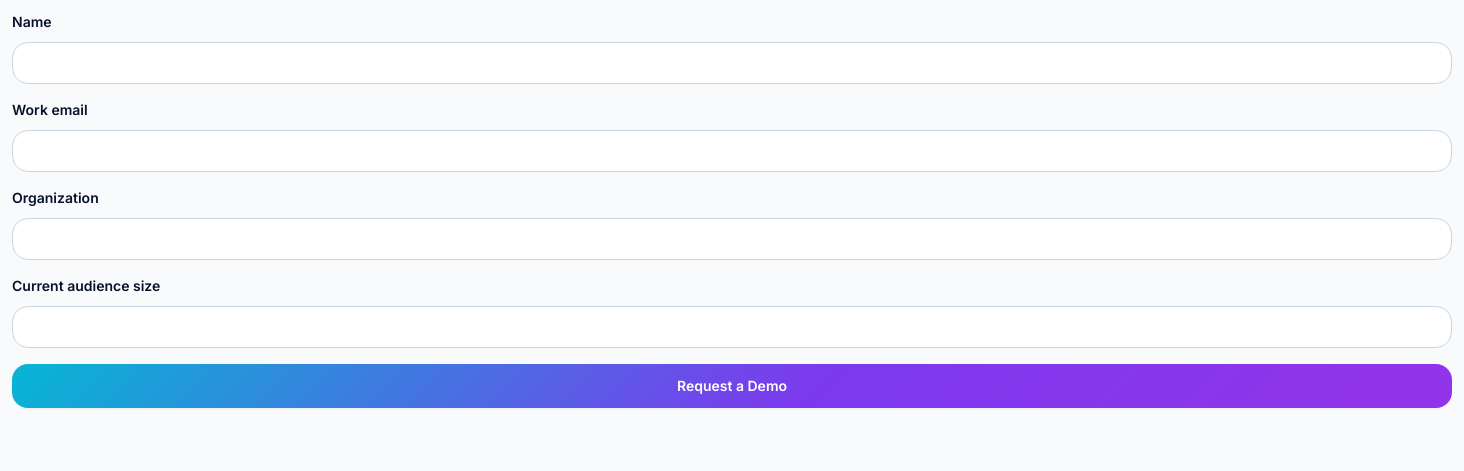
professional form › validates before confirming a request
Click the button "Request a Demo": (732, 386) [12,364,1452,408]
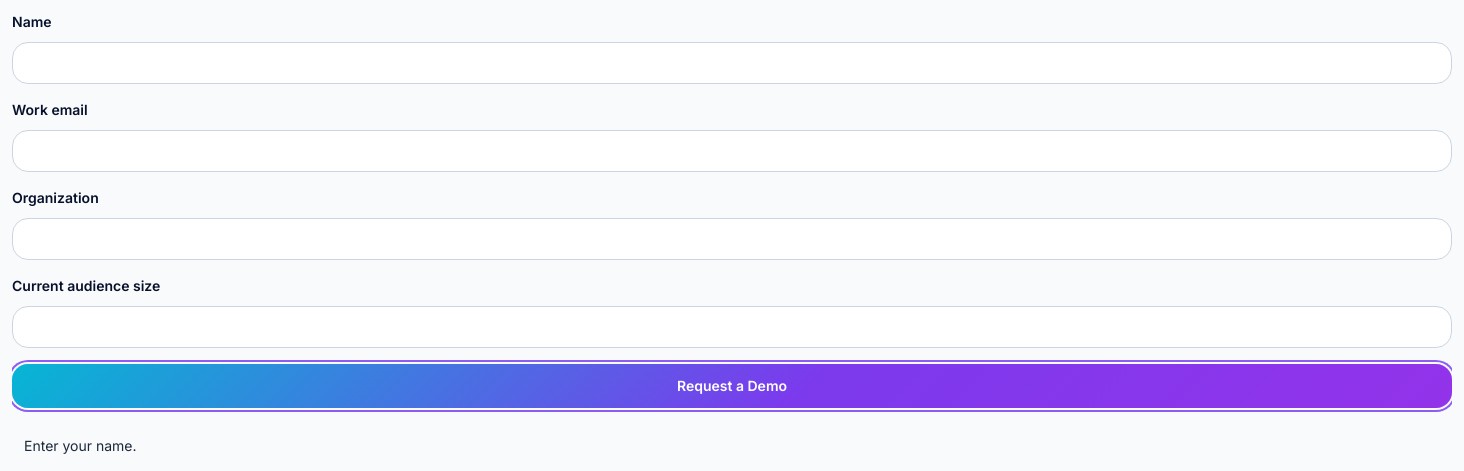
Expected: the message shows "Enter your name", [24,437,137,454]
In the field labelled "Name": (732, 63) [12,42,1452,84], type "Danielle"
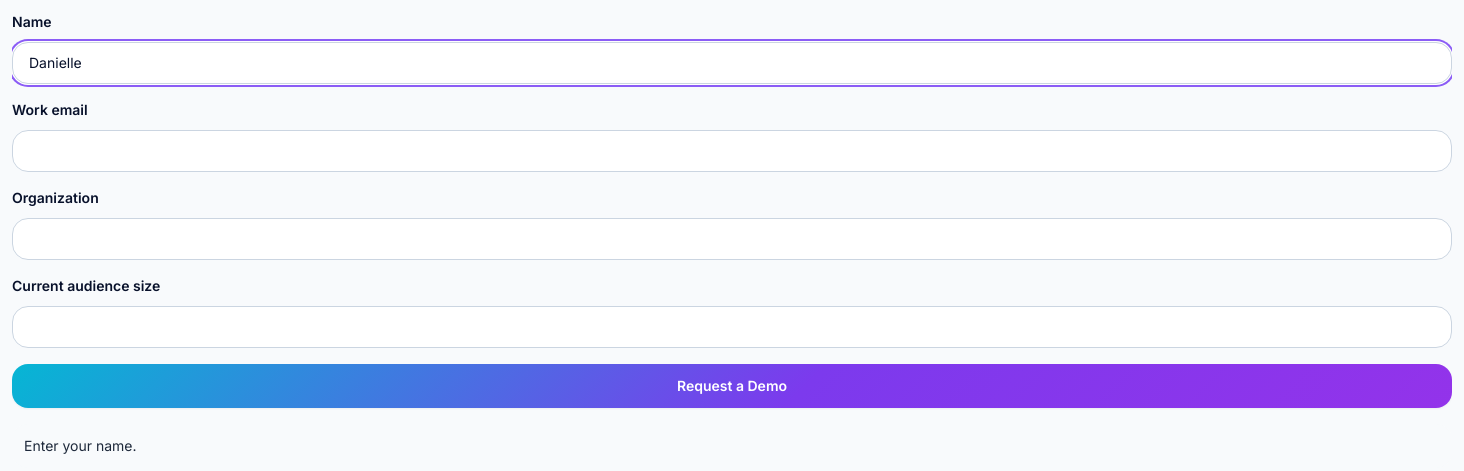
In the field labelled "Work email": (732, 151) [12,130,1452,172], type "d@example.com"
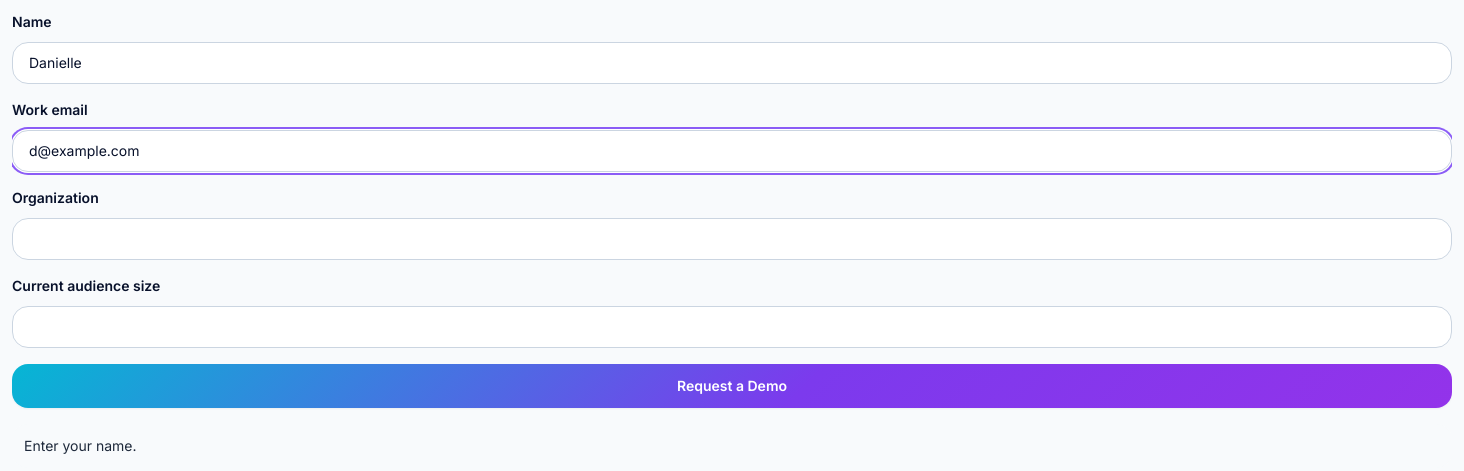
In the field labelled "Organization": (732, 239) [12,218,1452,260], type "Nexx Jenn"
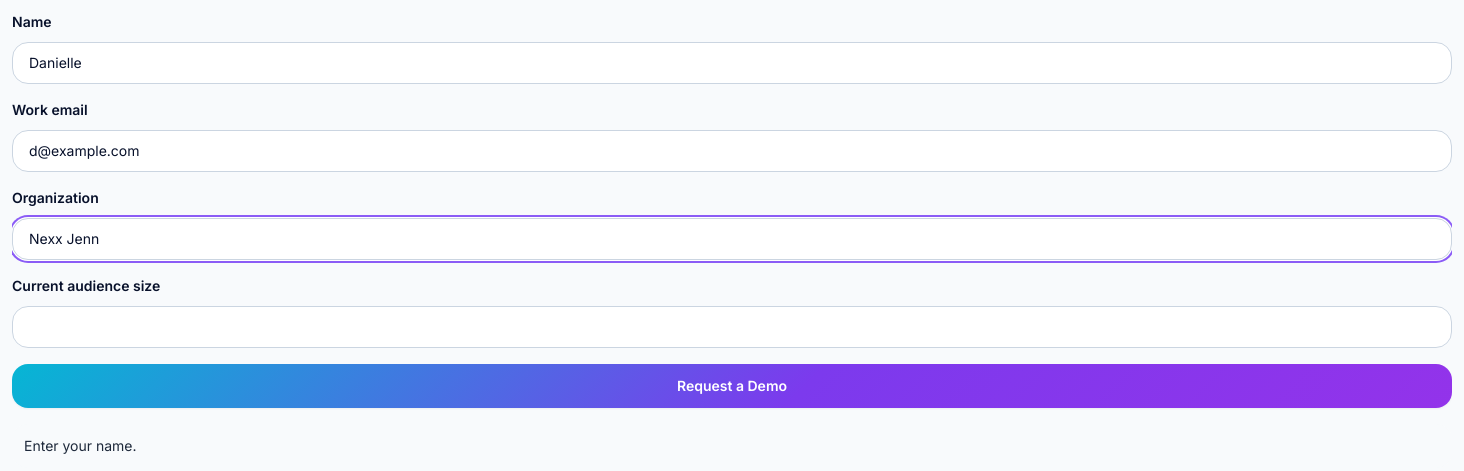
In the number field labelled "Current audience size": (732, 327) [12,306,1452,348], type "100"
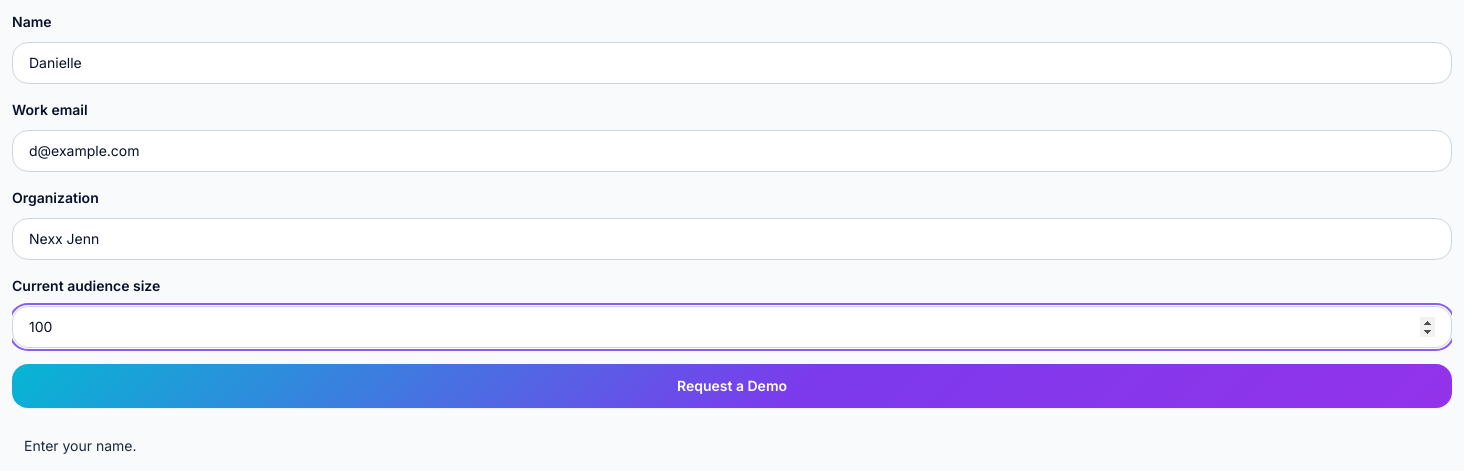
Click the button "Request a Demo": (732, 386) [12,364,1452,408]
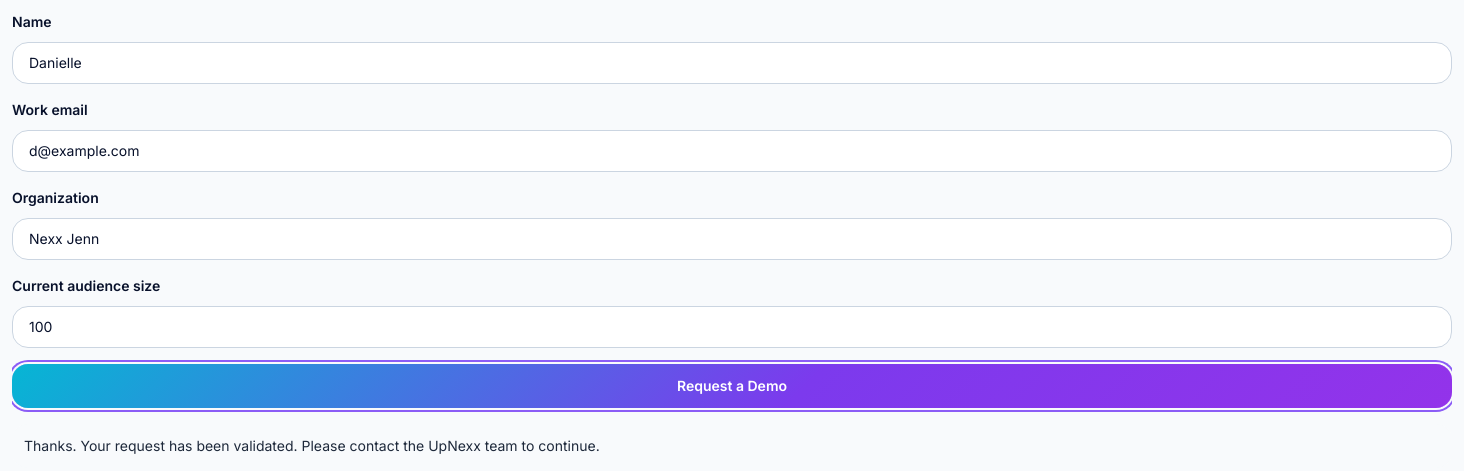
Expected: the message shows "request has been validated", [24,437,600,454]
